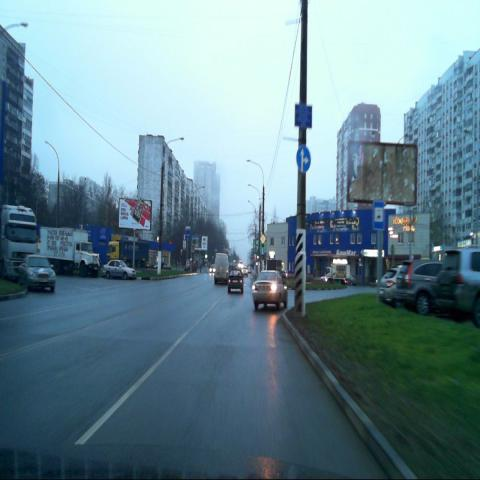5_18: (373, 201, 384, 231)
